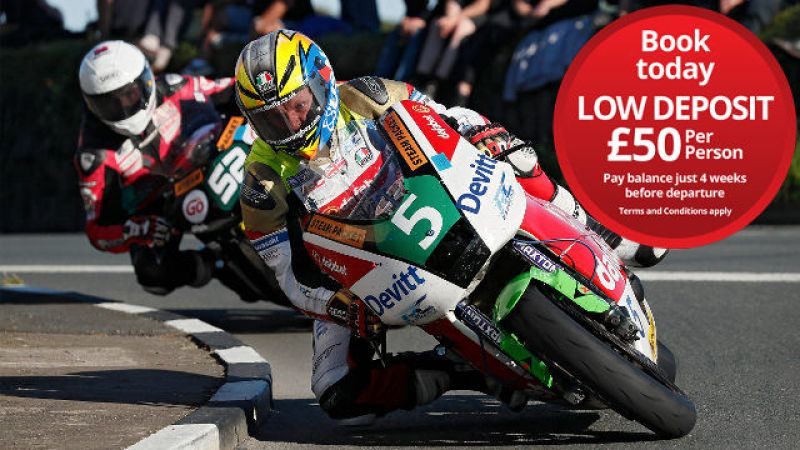helmet: (228, 25, 343, 167), (74, 34, 162, 139)
